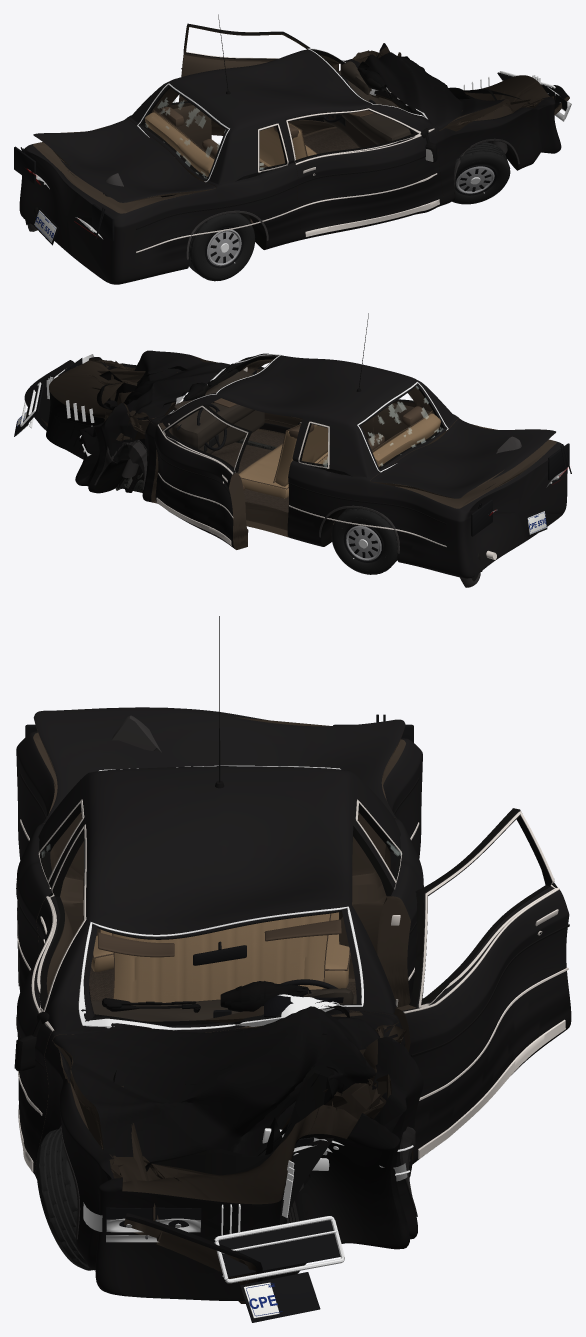
The model's file is coupe84_front_corner_d3.glb.
3 renders of one model, top to bottom at view 1: azimuth 30°, elevation 25°; view 2: azimuth 150°, elevation 25°; view 3: azimuth 270°, elevation 25°, orthographic. The views are drawn at different scales.
Parts seen in each view (by area): view 1: Body, Door_FR, Trunk, Interior, Hood, Wheel_RR_mesh, Wheel_FR_mesh, Trim_FR, Ends, Door_FL, Trim, Glass; view 2: Body, Interior, Trunk, Door_FL, Hood, Wheel_RL_mesh, Ends, Trim, Glass, Trim_FL, Door_FR, Underbody (+1 smaller); view 3: Body, Hood, Door_FL, Trunk, Interior, Ends, Door_FR, Trim, Trim_FL, Glass, Wheel_FR_mesh, Trim_FR (+1 smaller).
Boxes of the visible parts, bbox=[...] form: Body: bbox=[19, 43, 561, 284]; Door_FR: bbox=[285, 108, 443, 240]; Trunk: bbox=[33, 118, 216, 202]; Interior: bbox=[145, 61, 414, 176]; Hood: bbox=[346, 52, 569, 130]; Wheel_RR_mesh: bbox=[189, 213, 255, 281]; Wheel_FR_mesh: bbox=[452, 142, 510, 204]; Trim_FR: bbox=[286, 108, 439, 236]; Ends: bbox=[14, 71, 571, 245]; Door_FL: bbox=[179, 23, 338, 135]; Trim: bbox=[136, 14, 519, 259]; Glass: bbox=[137, 48, 427, 182]; Body: bbox=[46, 353, 567, 578]; Interior: bbox=[171, 370, 440, 498]; Trunk: bbox=[371, 418, 555, 498]; Door_FL: bbox=[154, 404, 252, 549]; Hood: bbox=[24, 350, 230, 441]; Wheel_RL_mesh: bbox=[331, 508, 397, 574]; Ends: bbox=[14, 354, 571, 536]; Trim: bbox=[94, 313, 446, 553]; Glass: bbox=[168, 354, 448, 472]; Trim_FL: bbox=[156, 405, 248, 545]; Door_FR: bbox=[247, 360, 373, 439]; Underbody: bbox=[115, 439, 496, 559]; Body: bbox=[16, 731, 423, 1300]; Hood: bbox=[52, 1005, 397, 1303]; Door_FL: bbox=[393, 808, 571, 1164]; Trunk: bbox=[33, 707, 405, 823]; Interior: bbox=[91, 912, 356, 1021]; Ends: bbox=[25, 714, 413, 1322]; Door_FR: bbox=[17, 823, 87, 1177]; Trim: bbox=[16, 616, 423, 1239]; Trim_FL: bbox=[395, 811, 569, 1159]; Glass: bbox=[42, 765, 401, 1030]; Wheel_FR_mesh: bbox=[36, 1128, 92, 1270]; Trim_FR: bbox=[14, 824, 86, 1172].
Size of the model in its own units: 5.26 by 2.14 by 2.46.
Materials: 33 (5 with a texture image).
